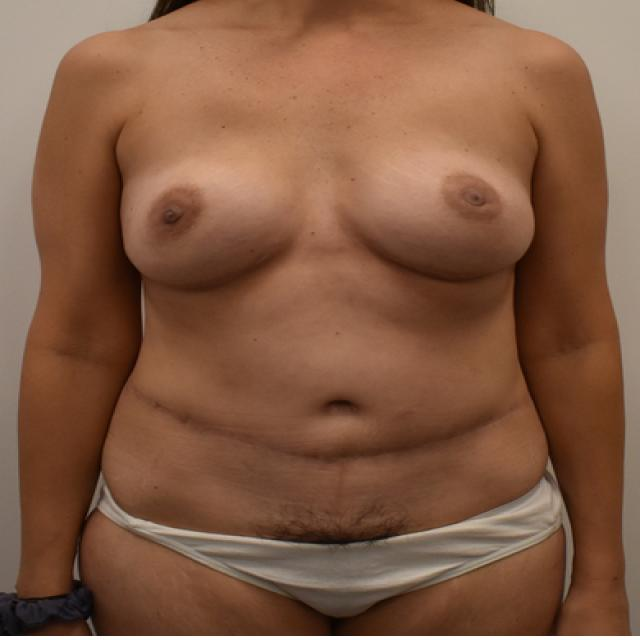Seno ileso: (328, 132, 542, 296), (113, 135, 317, 305)
